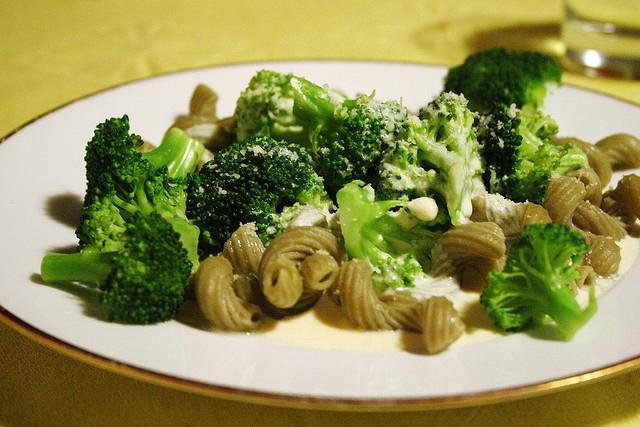broccoli: (184, 136, 327, 262), (375, 93, 486, 226), (292, 76, 408, 198), (480, 222, 598, 341), (335, 179, 437, 295), (84, 114, 204, 206), (442, 48, 564, 117), (481, 138, 572, 206), (232, 69, 308, 141), (76, 201, 126, 251)
